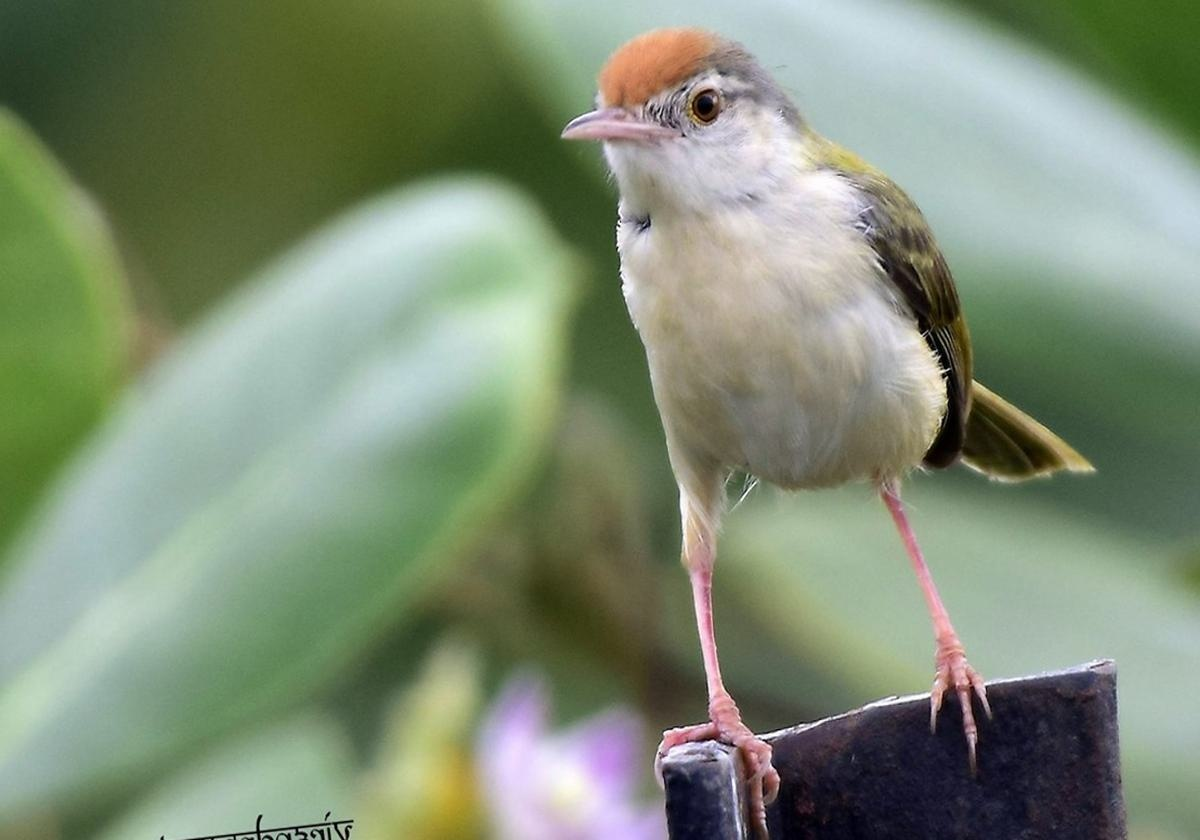tailorbird: (554, 30, 1075, 684)
